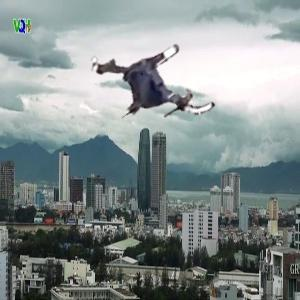drone: (88, 21, 216, 149)
